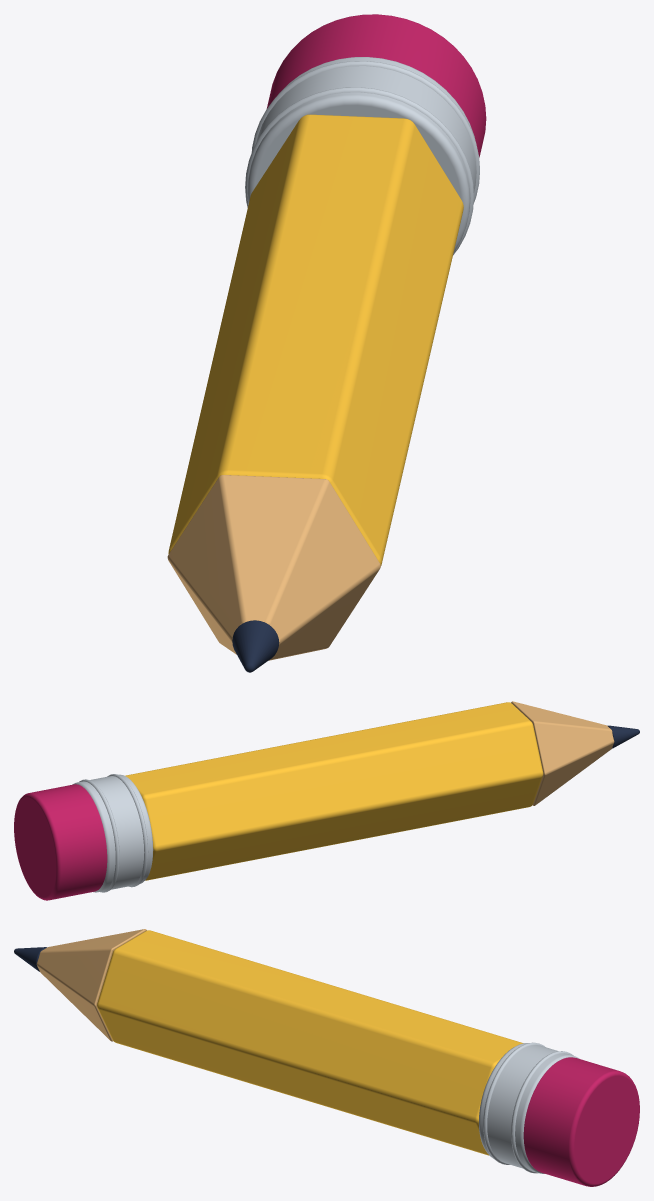
The model's file is pencil.glb.
3 views of the same model, one above another, from view 1: azimuth 30°, elevation 25°; view 2: azimuth 150°, elevation 25°; view 3: azimuth 270°, elevation 25° (orthographic). The views are drawn at different scales.
Parts seen in each view (by area): view 1: Hexagonal yellow barrel, Sharpened cedar, Metal eraser ferrule, Berry eraser, Ferrule ring, Graphite point, Ferrule ring.001; view 2: Hexagonal yellow barrel, Berry eraser, Sharpened cedar, Metal eraser ferrule, Ferrule ring.001, Ferrule ring, Graphite point; view 3: Hexagonal yellow barrel, Berry eraser, Metal eraser ferrule, Sharpened cedar, Ferrule ring.001, Ferrule ring, Graphite point.
Boxes of the visible parts, x1,y1,x2,y2 form: Hexagonal yellow barrel: (168, 114, 463, 565); Sharpened cedar: (167, 475, 380, 660); Metal eraser ferrule: (247, 57, 476, 252); Berry eraser: (266, 14, 486, 157); Ferrule ring: (245, 87, 473, 255); Graphite point: (232, 620, 279, 672); Ferrule ring.001: (251, 61, 479, 203); Hexagonal yellow barrel: (125, 702, 543, 880); Berry eraser: (14, 784, 107, 900); Sharpened cedar: (511, 701, 614, 805); Metal eraser ferrule: (72, 774, 153, 892); Ferrule ring.001: (79, 779, 119, 892); Ferrule ring: (107, 774, 148, 887); Graphite point: (607, 725, 639, 748); Hexagonal yellow barrel: (97, 930, 523, 1155); Berry eraser: (523, 1057, 639, 1186); Metal eraser ferrule: (479, 1043, 579, 1173); Sharpened cedar: (36, 929, 146, 1041); Ferrule ring.001: (511, 1051, 573, 1173); Ferrule ring: (483, 1042, 544, 1164); Graphite point: (14, 947, 46, 971).
Size of the model in its own units: 1.65 by 0.442 by 2.19.
